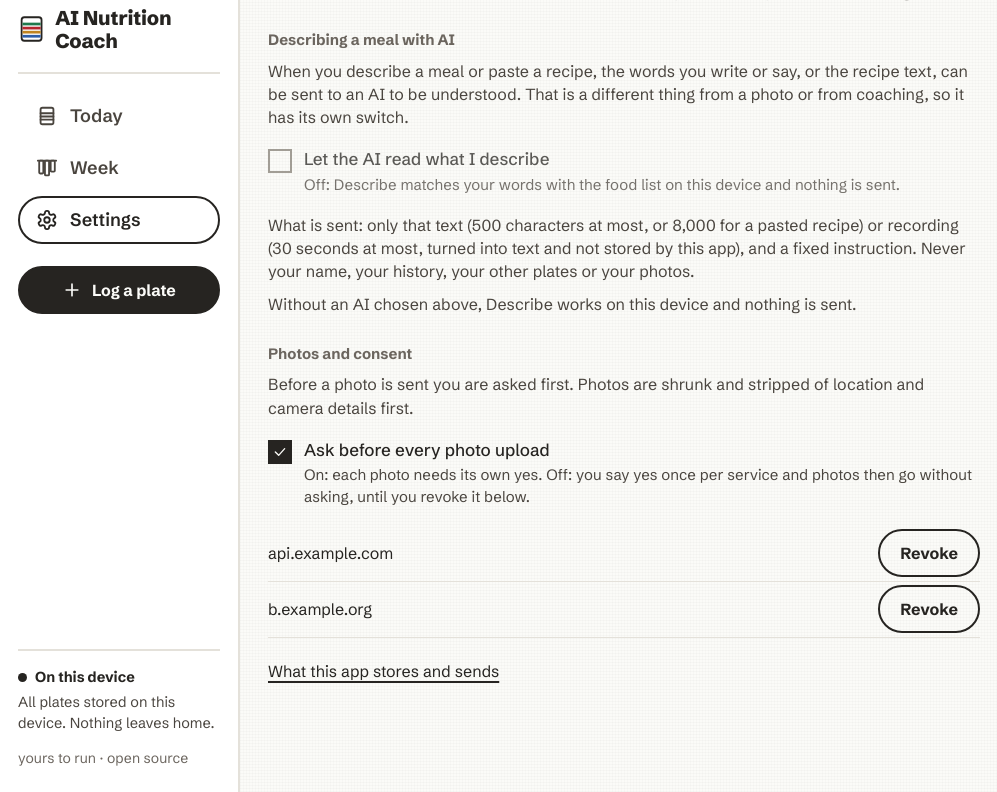
YourAiScreen › consented hosts are listed and each is revocable
This screenshot has width=997, height=792.
(page scrolled)
Expected: the text "api.example.com" is shown, [268,542,393,565]
Expected: the text "b.example.org" is shown, [268,598,372,621]
Click the button with aria-label "Revoke api.example.com".
click(929, 553)  # box [878,529,980,577]
(page scrolled)
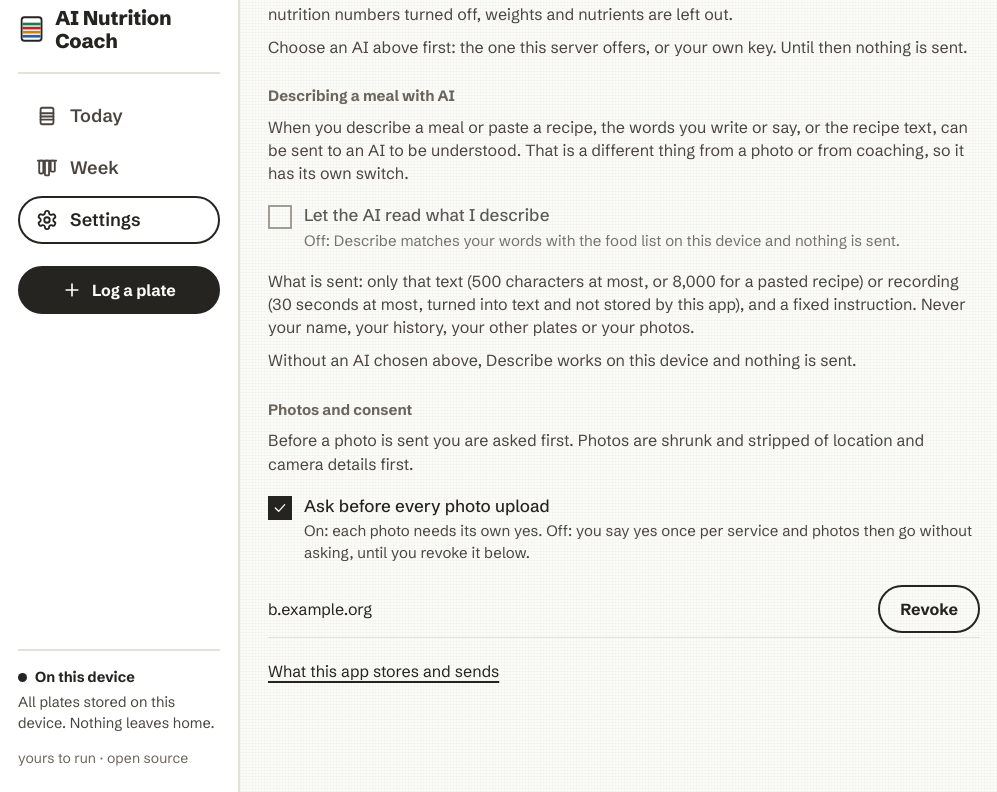
Now the text "api.example.com" is gone
